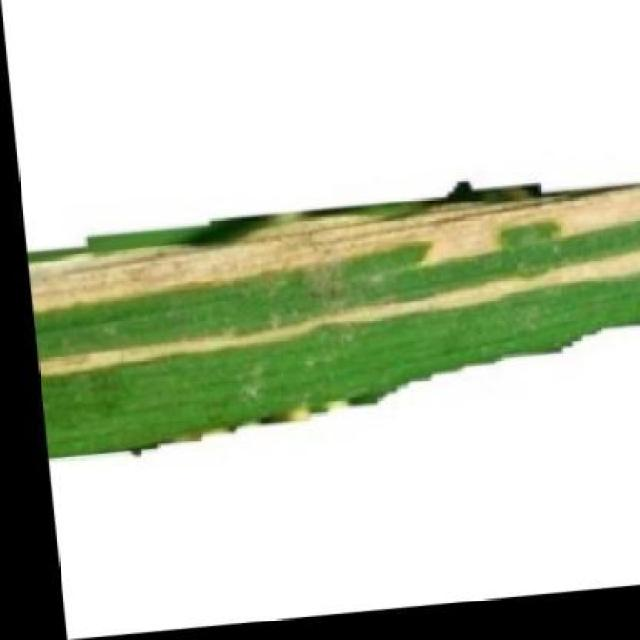Brown_Spot: (17, 175, 640, 463)
